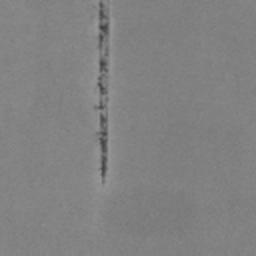Slag inclusion: (98, 114, 108, 178), (98, 2, 109, 49), (98, 52, 108, 95), (97, 101, 106, 110)
